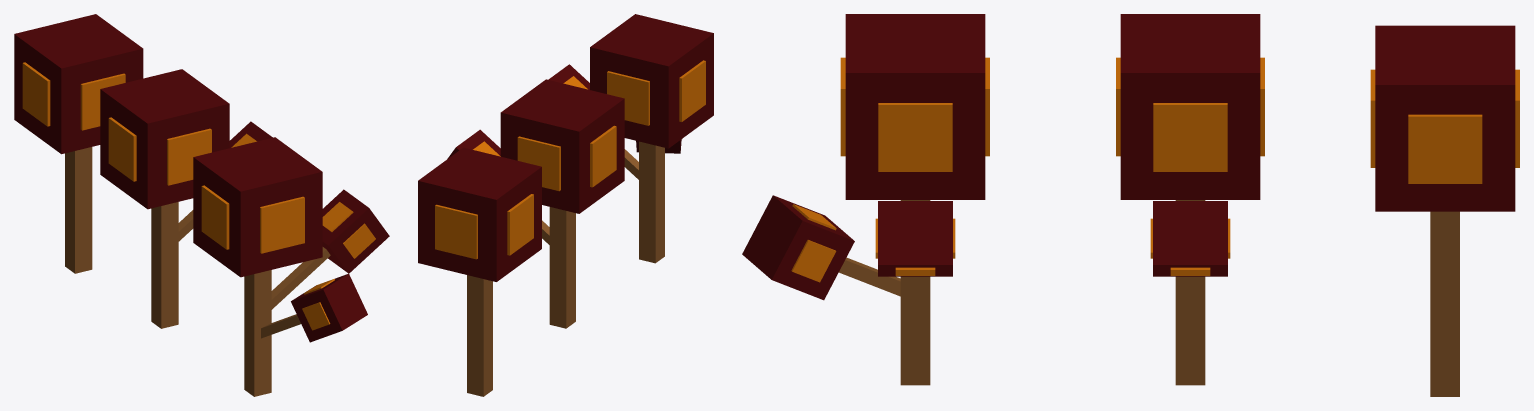
File: Bäume Lava.fbx
3 renders of one model, left to right at view 1: azimuth 30°, elevation 25°; view 2: azimuth 150°, elevation 25°; view 3: azimuth 270°, elevation 25°, orthographic. The views are drawn at different scales.
Visible parts, largest first — view 1: Cube.002, Cube.001, Cube; view 2: Cube, Cube.002, Cube.001; view 3: Cube.002, Cube.001, Cube.
Boxes of the visible parts, x1,y1,x2,y2 form: Cube.002: (193,137,389,396); Cube.001: (100,69,272,328); Cube: (14,14,143,273); Cube: (418,147,541,396); Cube.002: (548,14,713,263); Cube.001: (447,79,624,328); Cube.002: (742,14,989,385); Cube.001: (1116,14,1264,385); Cube: (1370,25,1519,396).
Size of the model in its own units: 939 by 1292 by 2624.
